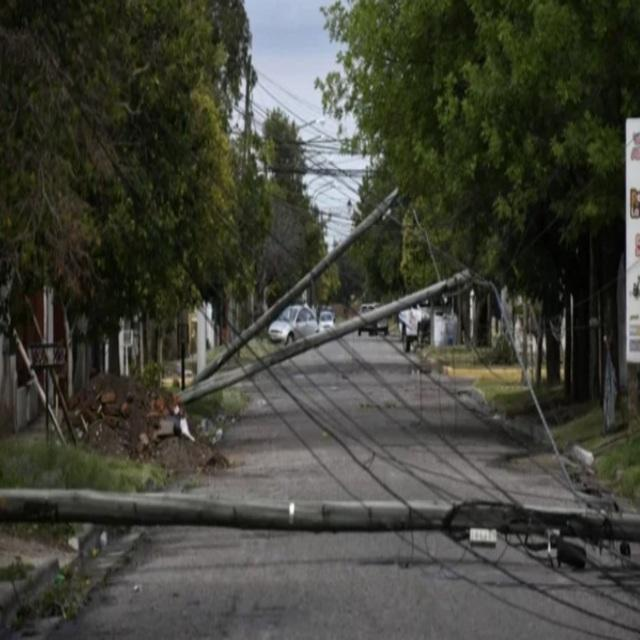Inclined Pole: (0, 480, 640, 569), (188, 182, 405, 389), (178, 266, 474, 401)
